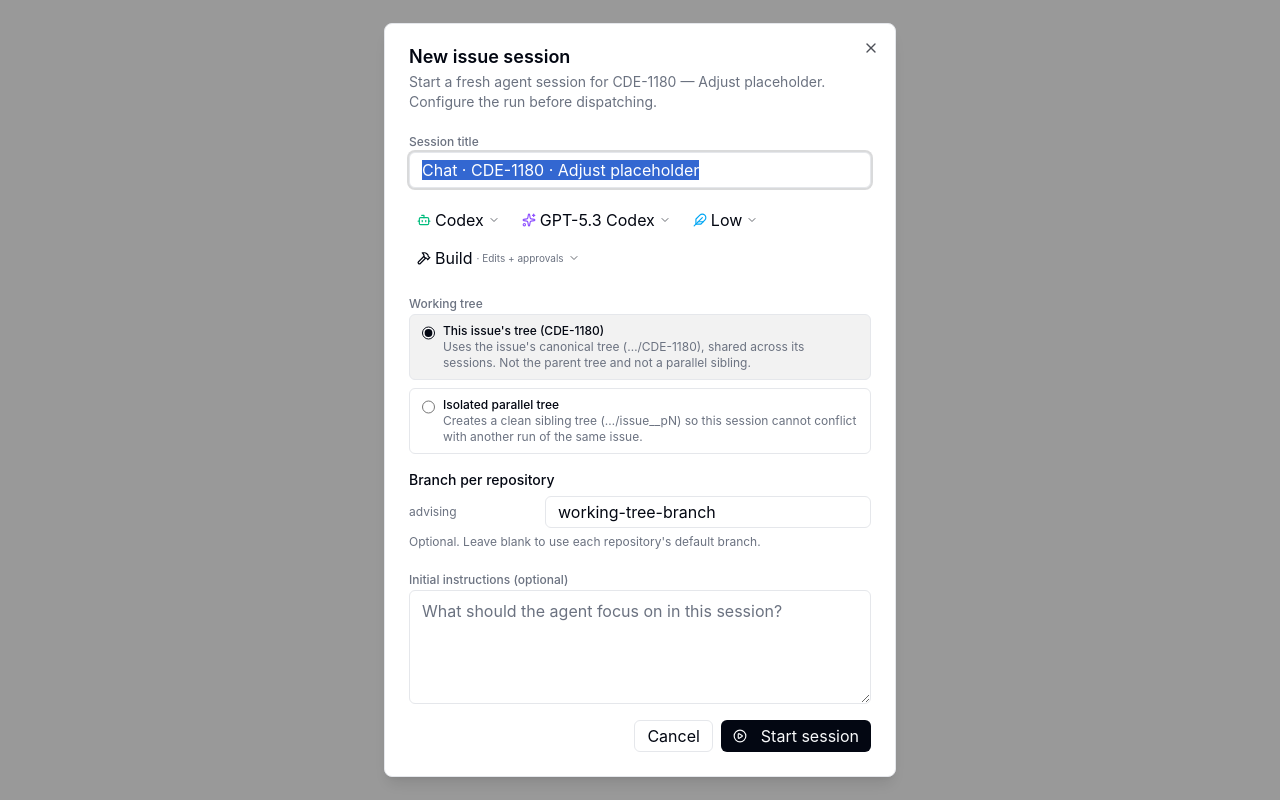
Test: StartIssueSessionDialog › prefills branch fields from the open PR when isolated tree is selected
This screenshot has width=1280, height=800.
Check: the dropdown named "branch for advising" holds "working-tree-branch", box [545,496,871,528]
Click the label with test id "workspace-target-isolated" at (640,421), box [409,388,871,454]
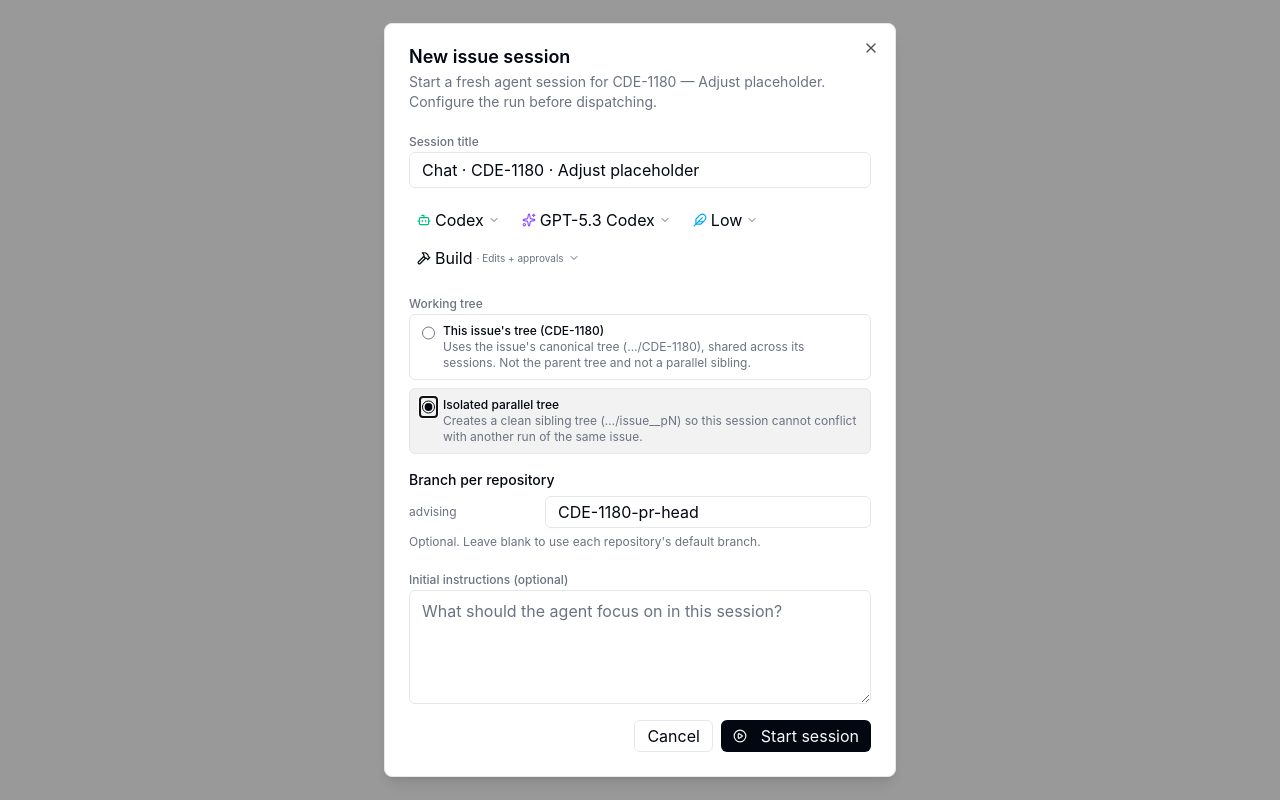
Check: the dropdown named "branch for advising" holds "CDE-1180-pr-head", box [545,496,871,528]
